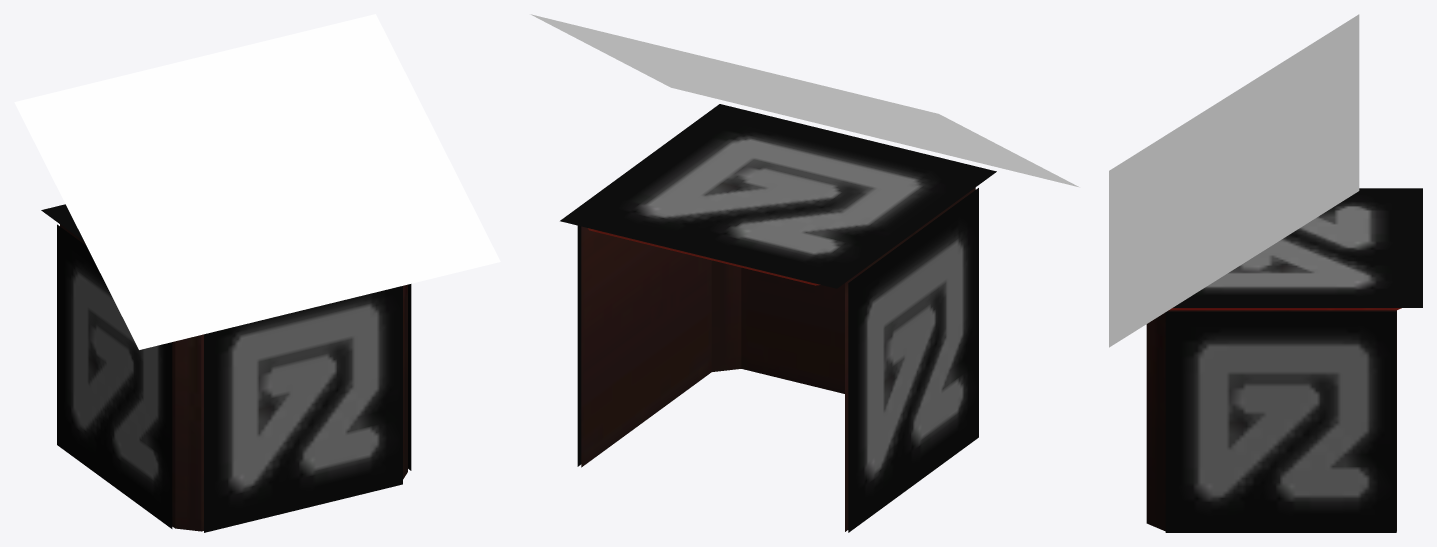
File: [gimmick]battlegate2.fbx
3 renders of one model, left to right at view 1: azimuth 30°, elevation 25°; view 2: azimuth 150°, elevation 25°; view 3: azimuth 270°, elevation 25°, orthographic. The views are drawn at different scales.
Visible parts, largest first — view 1: glow, ancient_glow_bg1, battlegate1; view 2: ancient_glow_bg1, battlegate1, glow; view 3: ancient_glow_bg1, glow, battlegate1.
Part boxes in pixels (box(x1,y1,x2,y2)): glow: box(14, 14, 500, 349); ancient_glow_bg1: box(41, 204, 411, 532); battlegate1: box(60, 224, 407, 531); ancient_glow_bg1: box(560, 104, 996, 532); battlegate1: box(581, 187, 975, 531); glow: box(530, 14, 1079, 187); ancient_glow_bg1: box(1165, 188, 1422, 532); glow: box(1109, 14, 1359, 347); battlegate1: box(1146, 308, 1401, 531).
Size of the model in its own units: 1.32 by 1.29 by 0.99.
